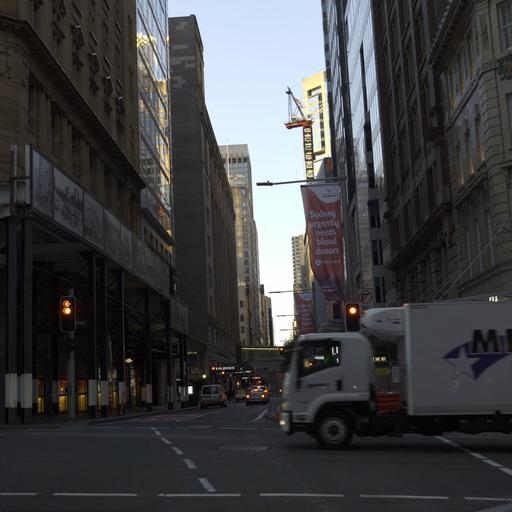Street light: (255, 176, 346, 187), (58, 294, 76, 333), (123, 356, 133, 408), (344, 301, 360, 331), (345, 302, 359, 317)
